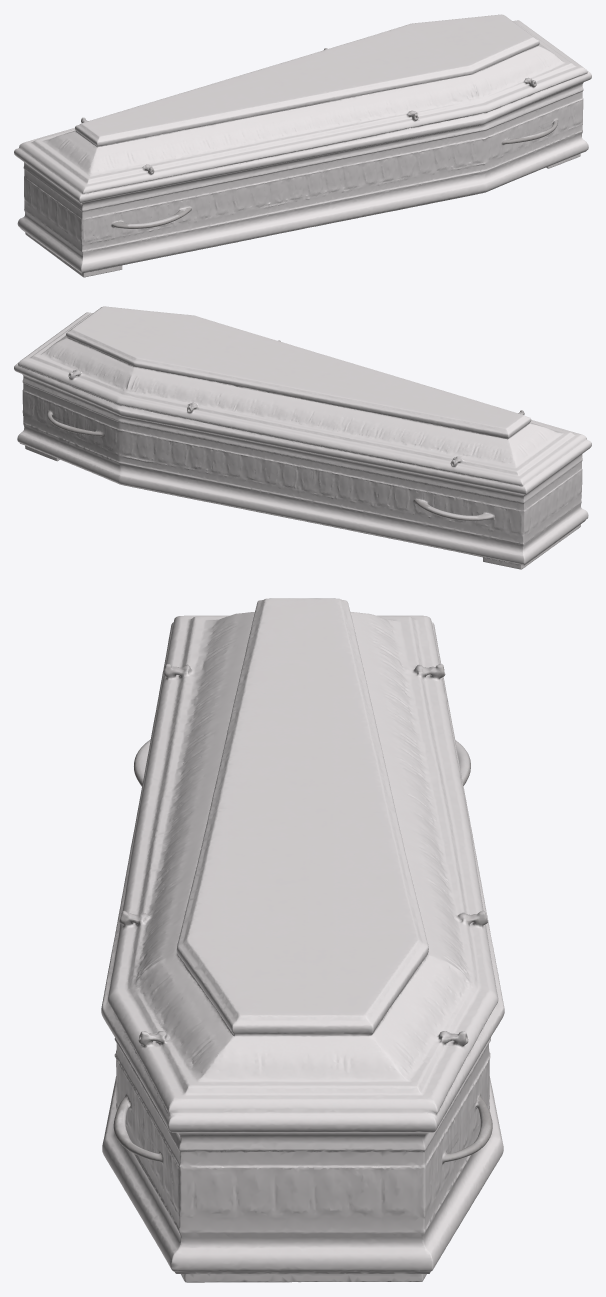
The model's file is coffin.glb.
3 renders of one model, top to bottom at view 1: azimuth 30°, elevation 25°; view 2: azimuth 150°, elevation 25°; view 3: azimuth 270°, elevation 25°, orthographic. The views are drawn at different scales.
Bounding box in the file's own units: 1.9 × 0.4169 × 0.6483.
Materials: 1 (1 with a texture image).
